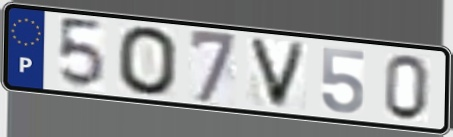0: (380, 52, 433, 123)
5: (55, 14, 109, 93), (319, 44, 367, 115)
7: (187, 26, 240, 106)
O: (114, 24, 181, 99)
V: (245, 34, 311, 112)
